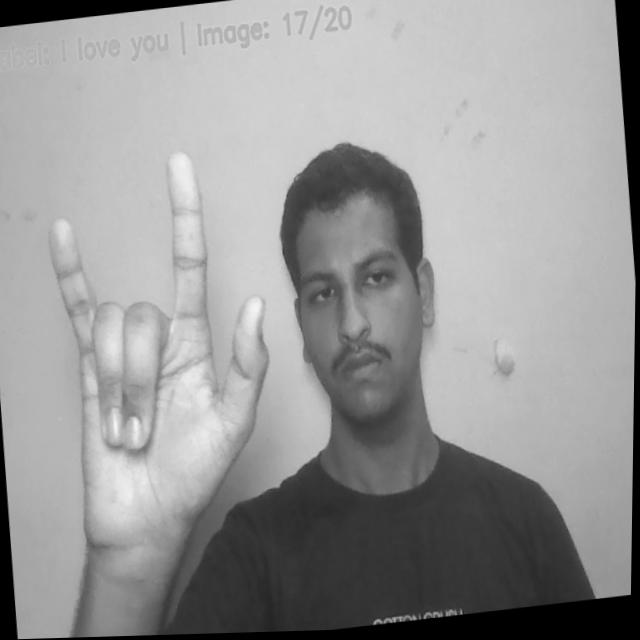I love you: (47, 147, 285, 543)
